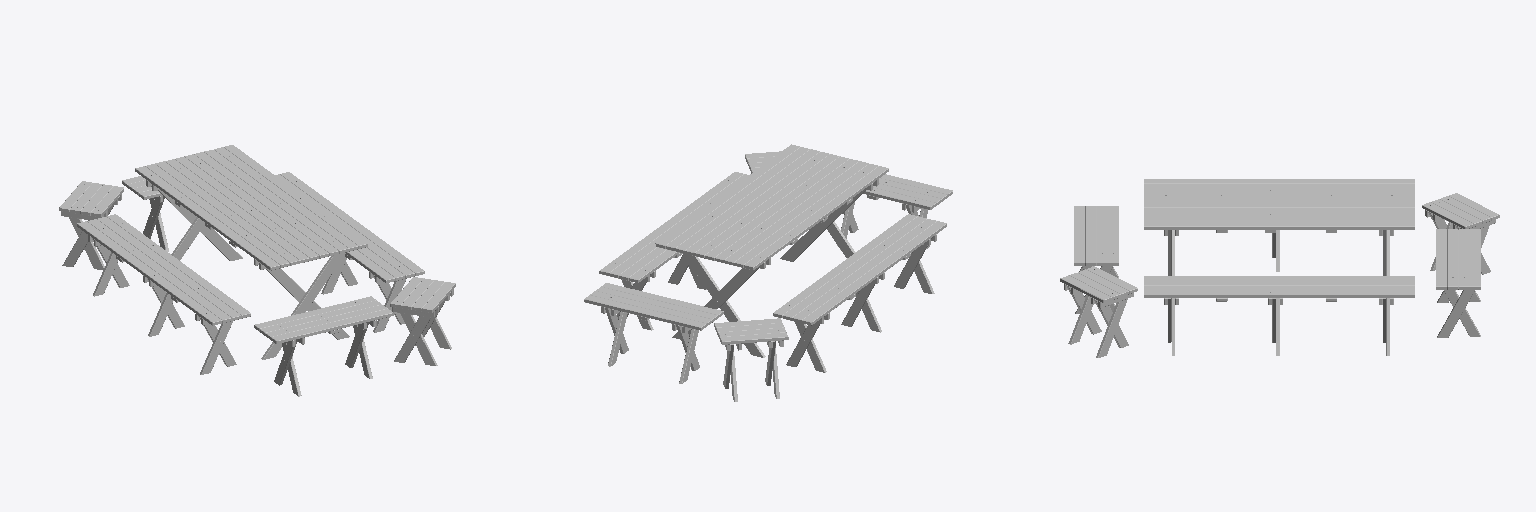
The model's file is Outdoor Furniture_02_obj.obj.
3 views of the same model, side by side, from view 1: azimuth 30°, elevation 25°; view 2: azimuth 150°, elevation 25°; view 3: azimuth 270°, elevation 25° (orthographic).
Parts seen in each view (by area): view 1: Arch_Object_19, Arch_Object_22, Arch_Object_31, Arch_Object_20, Arch_Object_21, Arch_Object_24, Arch_Object_17, Arch_Object_23, Arch_Object_26, Arch_Object_29, Arch_Object_18, Arch_Object_35 (+20 smaller); view 2: Arch_Object_19, Arch_Object_22, Arch_Object_32, Arch_Object_21, Arch_Object_25, Arch_Object_28, Arch_Object_20, Arch_Object_24, Arch_Object_26, Arch_Object_35, Arch_Object_27, Arch_Object_18 (+17 smaller); view 3: Arch_Object_35, Arch_Object_28, Arch_Object_37, Arch_Object_41, Arch_Object_20, Arch_Object_22, Arch_Object_23, Arch_Object_24, Arch_Object_25, Arch_Object_26, Arch_Object_29, Arch_Object_39 (+13 smaller).
Part boxes in pixels (x1,y1,x2,y2): Arch_Object_19: (77, 221, 221, 325); Arch_Object_22: (135, 166, 279, 270); Arch_Object_31: (261, 253, 349, 359); Arch_Object_20: (155, 161, 299, 265); Arch_Object_21: (145, 164, 289, 267); Arch_Object_24: (184, 154, 328, 258); Arch_Object_17: (97, 217, 241, 320); Arch_Object_23: (165, 159, 309, 262); Arch_Object_26: (204, 150, 348, 253); Arch_Object_29: (214, 147, 358, 251); Arch_Object_18: (87, 219, 231, 322); Arch_Object_35: (280, 172, 424, 275); Arch_Object_19: (802, 221, 946, 325); Arch_Object_22: (744, 166, 888, 269); Arch_Object_32: (672, 253, 765, 357); Arch_Object_21: (734, 164, 878, 267); Arch_Object_25: (705, 156, 848, 260); Arch_Object_28: (656, 144, 799, 248); Arch_Object_20: (724, 161, 868, 265); Arch_Object_24: (695, 154, 839, 258); Arch_Object_26: (675, 149, 819, 253); Arch_Object_35: (599, 172, 743, 275); Arch_Object_27: (685, 152, 829, 255); Arch_Object_18: (792, 219, 936, 322); Arch_Object_35: (1144, 290, 1414, 297); Arch_Object_28: (1144, 222, 1414, 229); Arch_Object_37: (1144, 281, 1414, 285); Arch_Object_41: (1144, 276, 1414, 280); Arch_Object_20: (1144, 188, 1414, 192); Arch_Object_22: (1144, 179, 1414, 183); Arch_Object_23: (1144, 193, 1414, 197); Arch_Object_24: (1144, 203, 1414, 207); Arch_Object_25: (1144, 198, 1414, 202); Arch_Object_26: (1144, 212, 1414, 216); Arch_Object_29: (1144, 217, 1414, 221); Arch_Object_39: (1144, 286, 1414, 289).
Bounding box in the file's own units: 68.34 × 30 × 117.